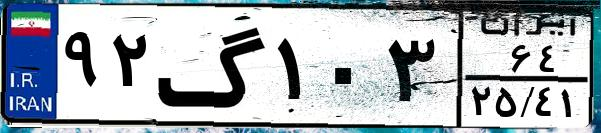0: (330, 28, 385, 110)
1: (270, 28, 330, 110), (560, 70, 590, 125)
2: (110, 28, 156, 98), (470, 70, 495, 125)
3: (385, 28, 445, 110)
4: (537, 27, 568, 80), (535, 70, 560, 125)
5: (495, 70, 520, 125)
6: (508, 27, 537, 80)
9: (57, 26, 110, 100)
گ: (156, 12, 270, 120)
